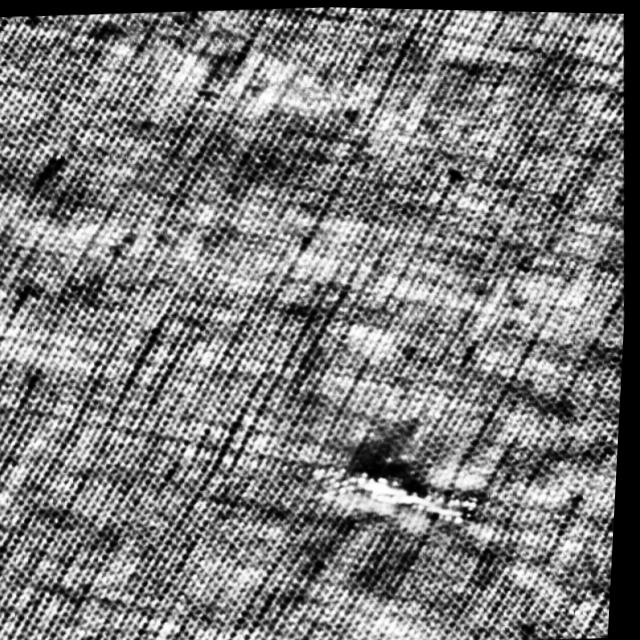Hole: (309, 448, 493, 534)
